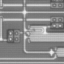dust: (32, 28, 35, 32)
